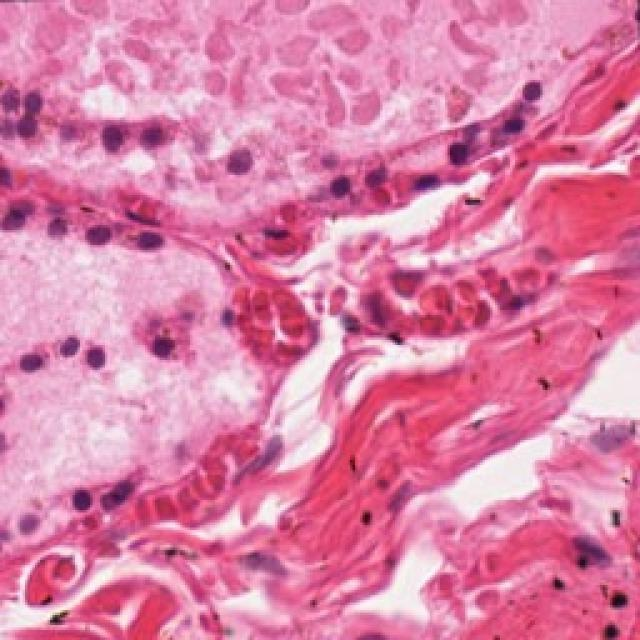normal: (420, 112, 490, 193), (47, 303, 103, 373), (83, 112, 140, 180), (120, 211, 173, 281), (130, 100, 178, 170), (28, 197, 87, 253), (0, 175, 40, 247), (16, 340, 61, 390), (72, 215, 110, 265), (70, 334, 113, 378)
